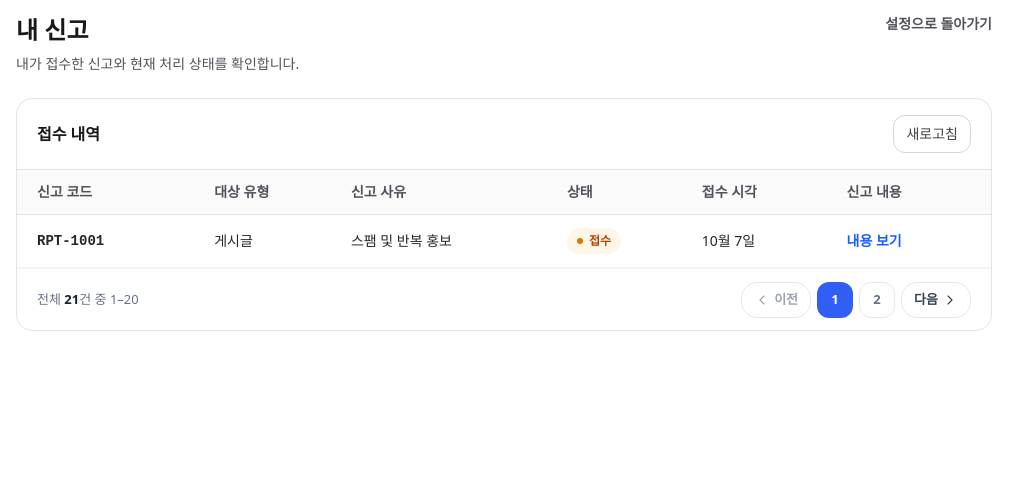
Scenario: MyReports › requests server pages rather than filtering a local list
This screenshot has width=1009, height=493.
Expected: the cell "RPT-1001" is shown, [17,214,202,268]
Click the button "2" at point(877, 300), box [859,282,895,318]
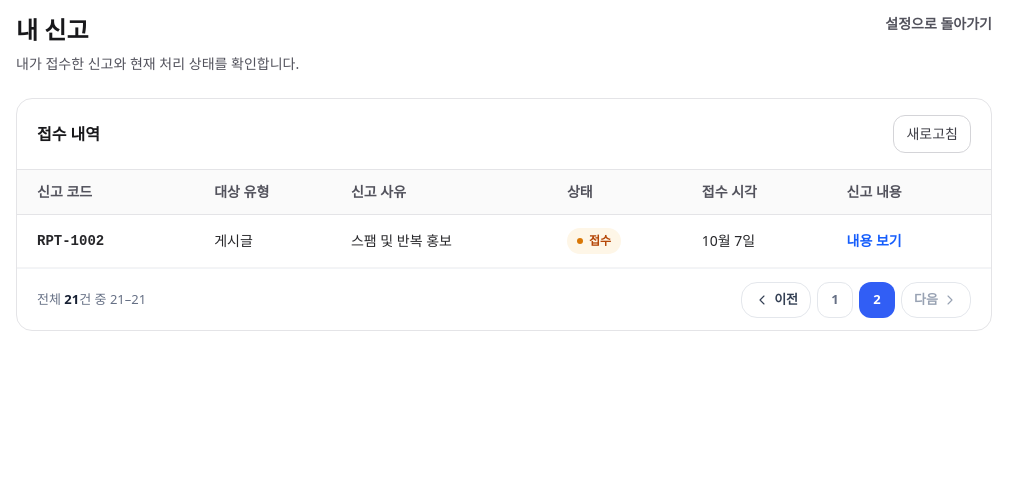
Expected: the cell "RPT-1002" is shown, [17,214,202,268]
Expected: the text "RPT-1001" is gone
Click the button with aria-label "RPT-1002 내용 보기" at point(874, 241), box [847,231,902,251]
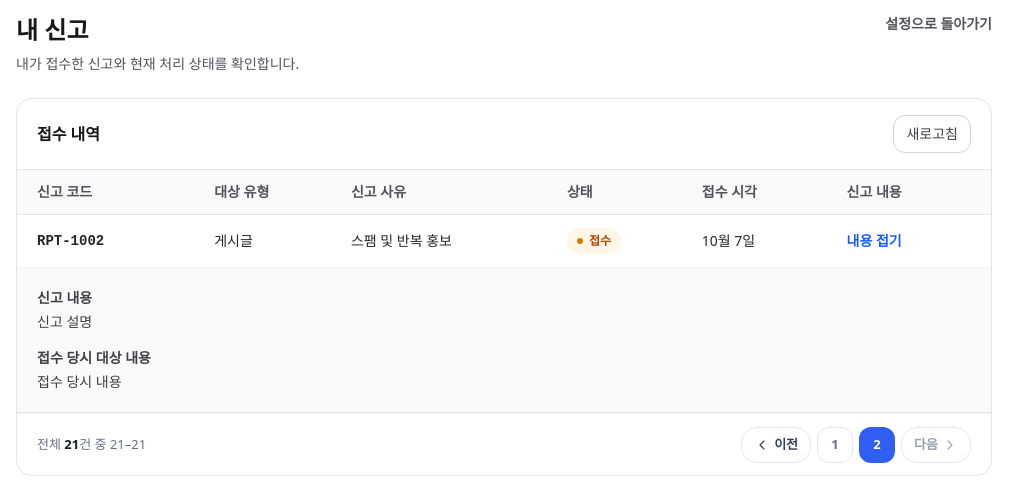
Expected: the text "신고 설명" is shown, [37,312,92,331]
Expected: the text "접수 당시 내용" is shown, [37,372,122,391]
